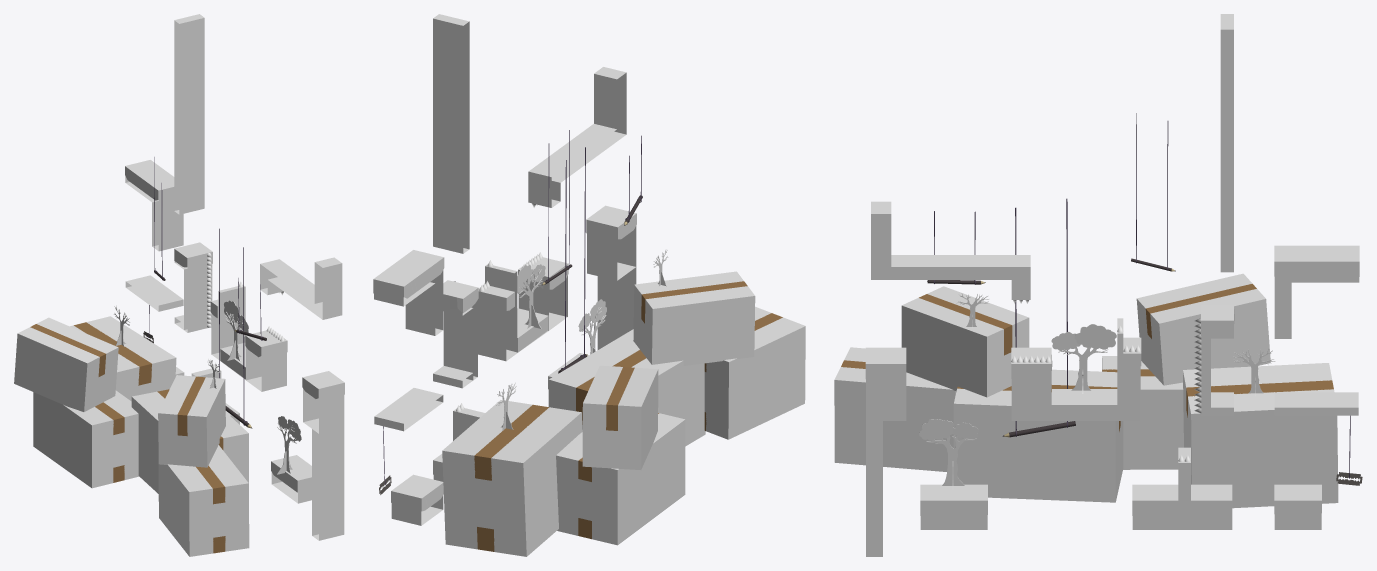
The model's file is Pantalla14V1-DEF.fbx.
3 renders of one model, left to right at view 1: azimuth 30°, elevation 25°; view 2: azimuth 150°, elevation 25°; view 3: azimuth 270°, elevation 25°, orthographic. The views are drawn at different scales.
Parts seen in each view (by area): view 1: screen14, Caja_1.001, Caja_1.002, Cube.001, screen14.001, Cube.002, Caja_1, Cube, Cylinder.002; view 2: screen14, Caja_1, Caja_1.001, Cube.002, Caja_1.002, screen14.001, Cube.001, Cube, Cylinder.002; view 3: screen14, Caja_1, Cube, screen14.001, Cube.002, Cube.001, Caja_1.002, Caja_1.001, Cylinder.002, Arbol2.007, Arbol2.004.
Part boxes in pixels (x1,y1,x2,y2): screen14: (125, 14, 344, 540); Caja_1.001: (33, 390, 138, 488); Caja_1.002: (158, 445, 249, 556); Cube.001: (14, 317, 118, 411); screen14.001: (125, 160, 344, 492); Cube.002: (158, 375, 225, 467); Caja_1: (70, 316, 176, 401); Cube: (131, 389, 248, 493); Cylinder.002: (219, 228, 252, 428); screen14: (374, 14, 636, 525); Caja_1: (442, 400, 582, 556); Caja_1.001: (556, 413, 685, 545); Cube.002: (633, 271, 755, 365); Caja_1.002: (704, 306, 805, 439); screen14.001: (373, 205, 636, 511); Cube.001: (582, 365, 658, 469); Cube: (548, 329, 705, 446); Cylinder.002: (558, 147, 587, 373); screen14: (866, 14, 1359, 556); Caja_1: (1183, 363, 1338, 508); Cube: (953, 369, 1123, 502); screen14.001: (865, 245, 1359, 515); Cube.002: (901, 286, 1029, 397); Cube.001: (1136, 273, 1270, 385); Caja_1.002: (834, 347, 956, 471); Caja_1.001: (1102, 356, 1183, 469); Cylinder.002: (1002, 198, 1075, 437); Arbol2.007: (1074, 324, 1116, 349); Arbol2.004: (926, 435, 976, 489).
Bounding box in the file's own units: 4154 × 9125 × 8284.
